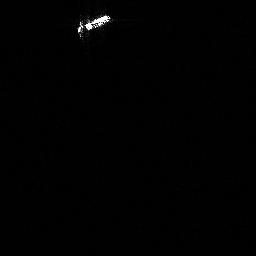ship: (74, 11, 113, 42)
